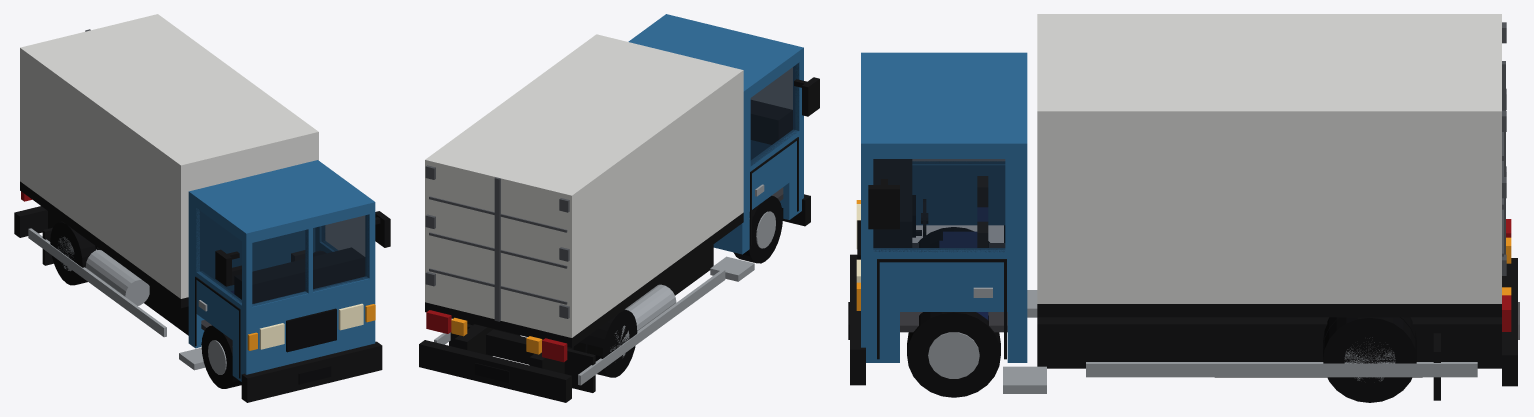
File: truk_boks.glb
The picture shows the model from 3 angles, left to right: view 1: azimuth 30°, elevation 25°; view 2: azimuth 150°, elevation 25°; view 3: azimuth 270°, elevation 25°; orthographic projection. The views are drawn at different scales.
Parts seen in each view (by area): view 1: BoksWall_L, BoksTop, Roof, CabFrontLow, BoksFront, Bumper_F, Windshield_L, Windshield_R, IntDash, SideGlass_L, CabBackTop, SideGuard_L (+28 smaller); view 2: BoksWall_L, BoksTop, BoksBack, Roof, Bumper_R, SideGlass_L, CargoFloor, Wheel_RL, SideGuard_L, IntDash, CabArch_L, ChassisRail_L (+26 smaller); view 3: BoksWall_R, BoksTop, Roof, ChassisRail_R, SideGlass_R, CargoFloor, SideGuard_R, Wheel_RR, CabArch_R, Wheel_FR, CabArch_L, CabSideLowF_R (+18 smaller).
Part boxes in pixels (x1,y1,x2,y2): BoksWall_L: [20, 46, 185, 298]; BoksTop: [20, 15, 318, 169]; Roof: [188, 160, 375, 241]; CabFrontLow: [243, 280, 375, 374]; BoksFront: [178, 131, 318, 298]; Bumper_F: [241, 341, 382, 402]; Windshield_L: [252, 229, 308, 306]; Windshield_R: [313, 214, 369, 291]; IntDash: [234, 247, 364, 303]; SideGlass_L: [196, 208, 241, 304]; CabBackTop: [188, 213, 314, 269]; SideGuard_L: [28, 228, 166, 337]; BoksWall_L: [567, 70, 743, 337]; BoksTop: [425, 37, 743, 198]; BoksBack: [425, 158, 574, 337]; Roof: [628, 14, 803, 99]; Bumper_R: [419, 340, 571, 402]; SideGlass_L: [750, 63, 799, 165]; CargoFloor: [425, 212, 743, 347]; Wheel_RL: [573, 309, 637, 377]; SideGuard_L: [578, 269, 725, 385]; IntDash: [751, 100, 792, 144]; CabArch_L: [749, 142, 789, 211]; ChassisRail_L: [529, 244, 713, 373]; BoksWall_R: [1037, 108, 1501, 303]; BoksTop: [1037, 14, 1501, 117]; Roof: [861, 52, 1027, 154]; ChassisRail_R: [1037, 317, 1501, 368]; SideGlass_R: [873, 159, 1005, 252]; CargoFloor: [1037, 304, 1501, 317]; SideGuard_R: [1086, 362, 1477, 377]; Wheel_RR: [1323, 317, 1416, 402]; CabArch_R: [900, 256, 1007, 311]; Wheel_FR: [907, 312, 1000, 397]; CabArch_L: [912, 170, 1004, 224]; CabSideLowF_R: [861, 256, 899, 362].
Size of the model in its own units: 1.12 by 1.32 by 2.74.
